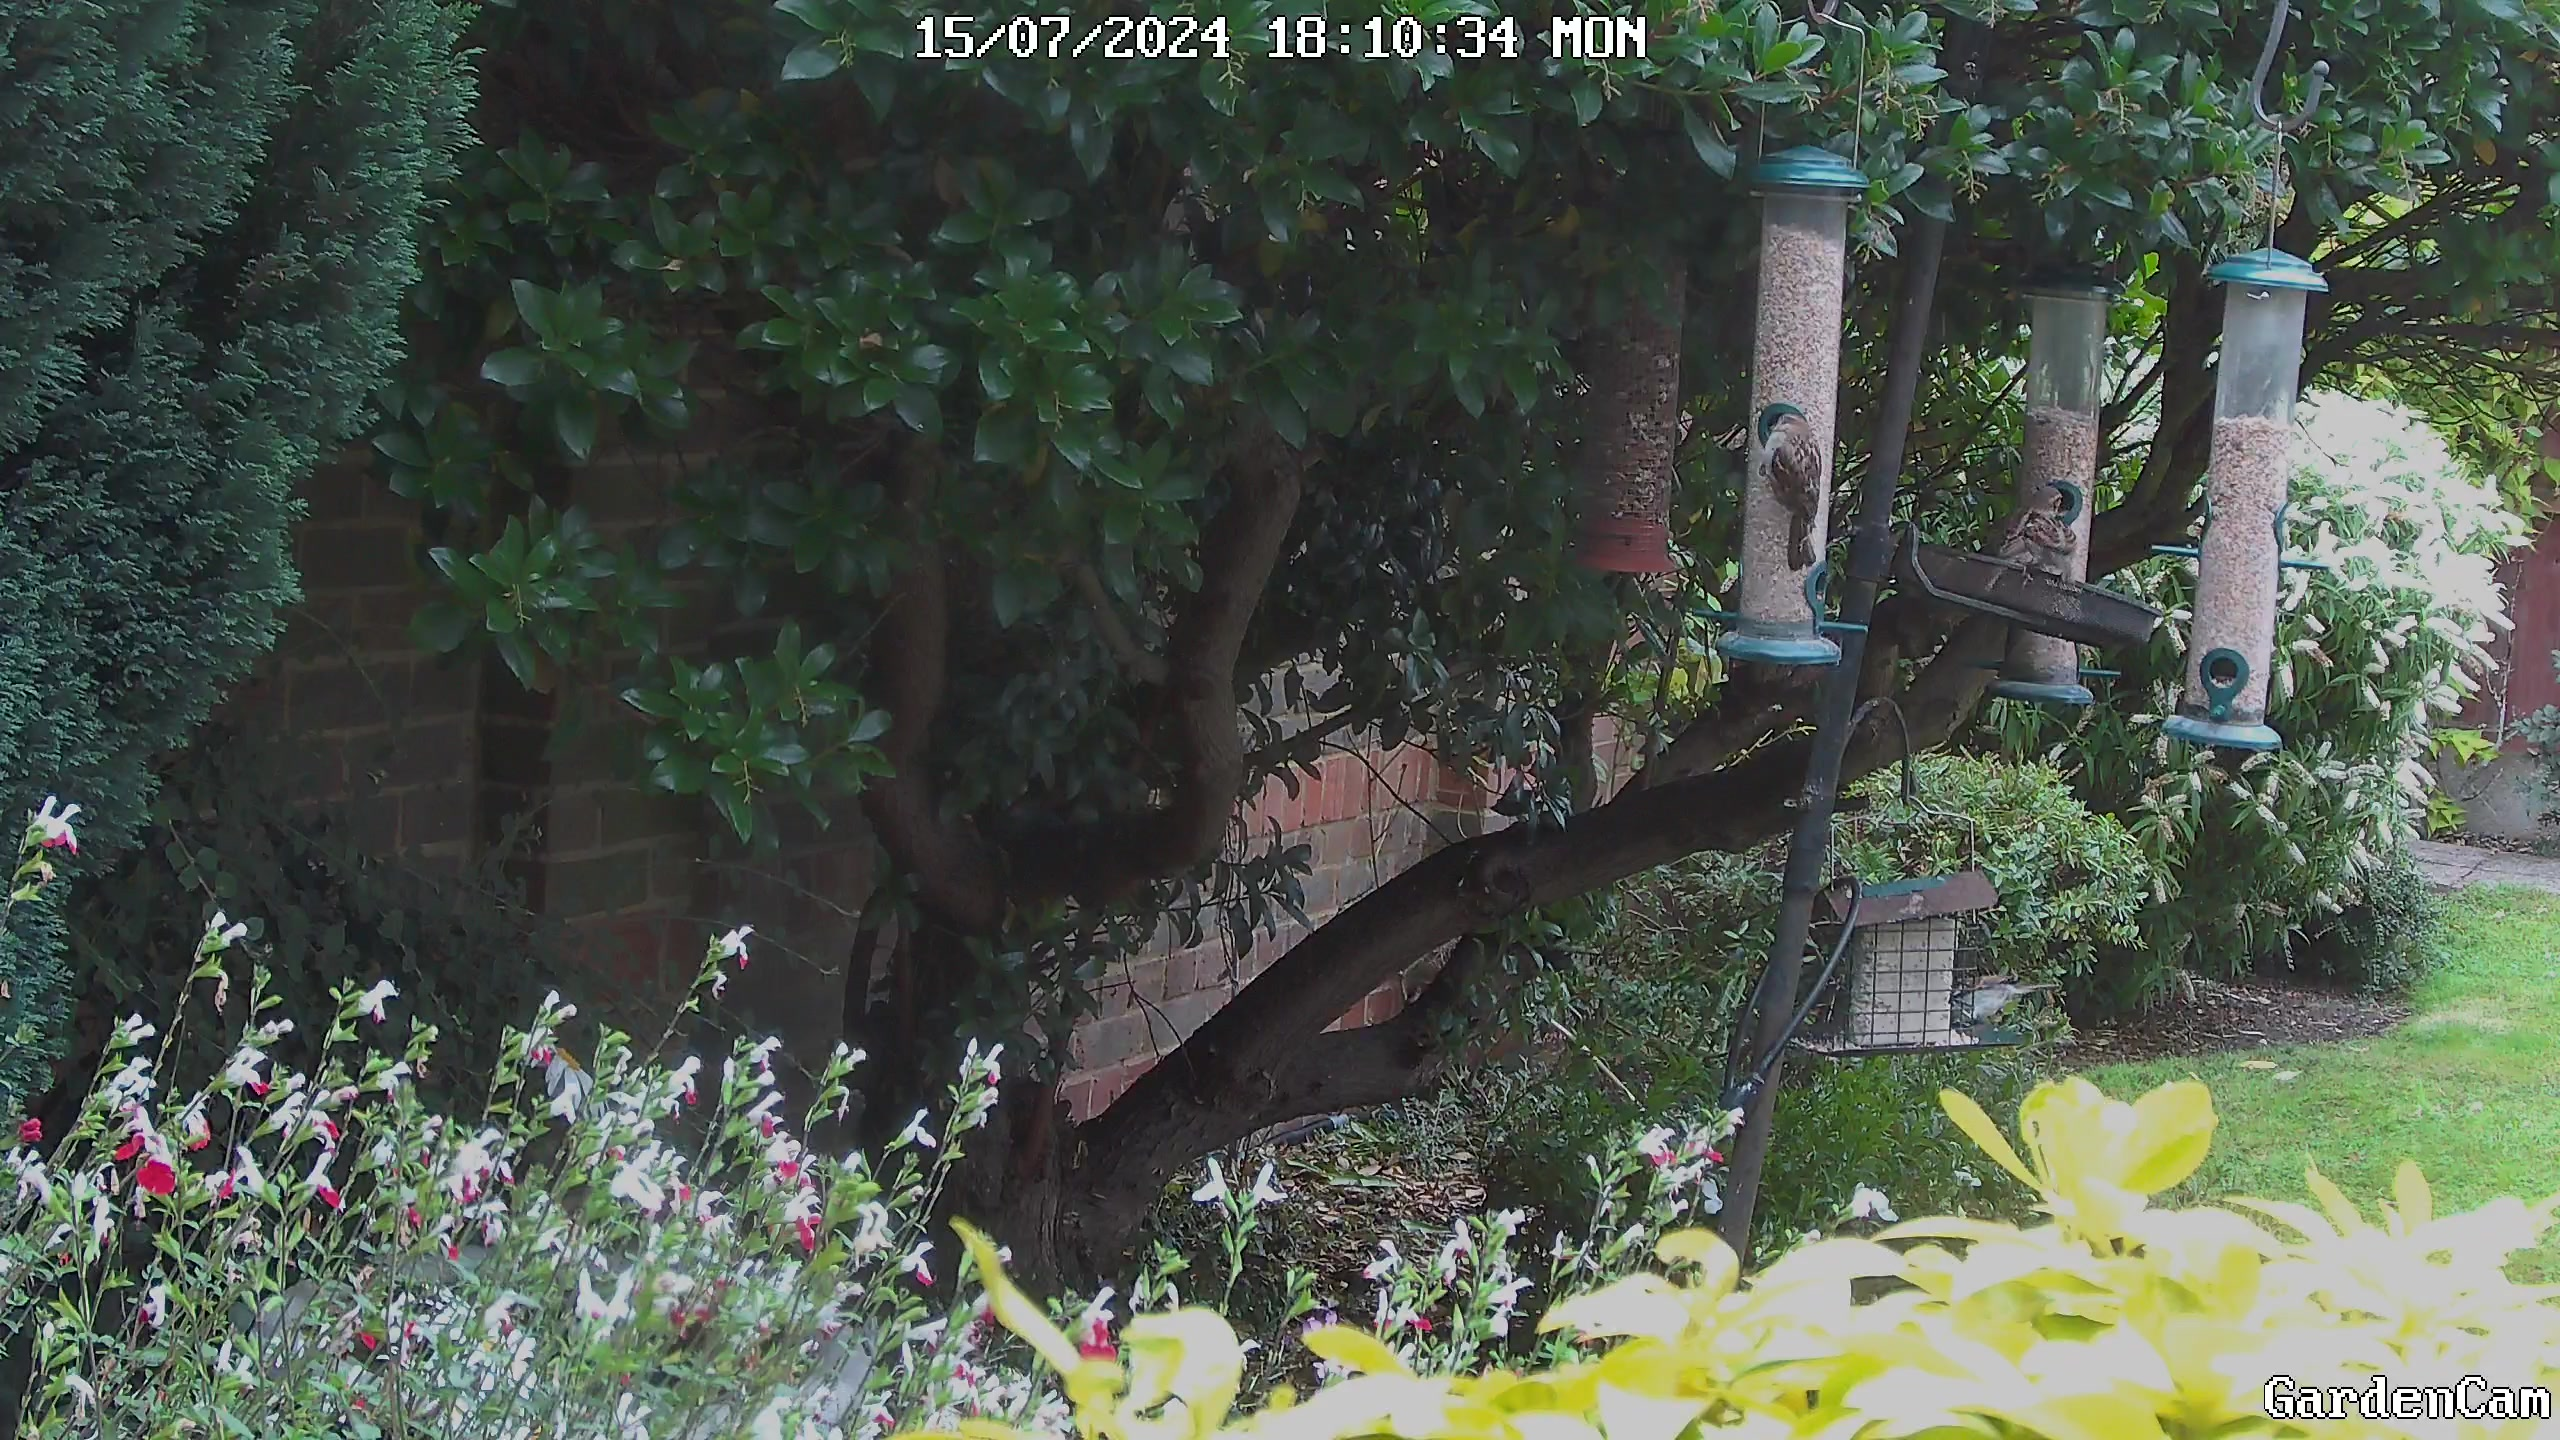House_Sparrow: (1746, 396, 1846, 585), (1975, 473, 2089, 610)
